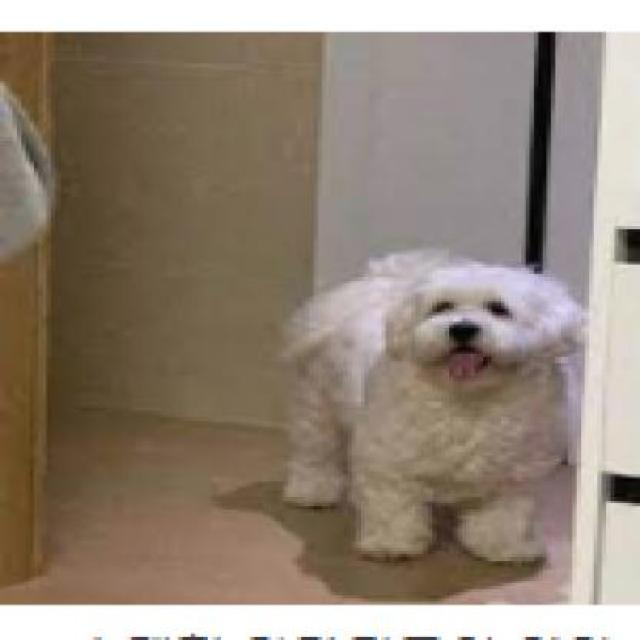Dog: (274, 243, 589, 579)
